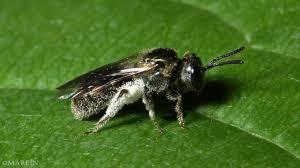Lasioglossum: (42, 38, 249, 129)
